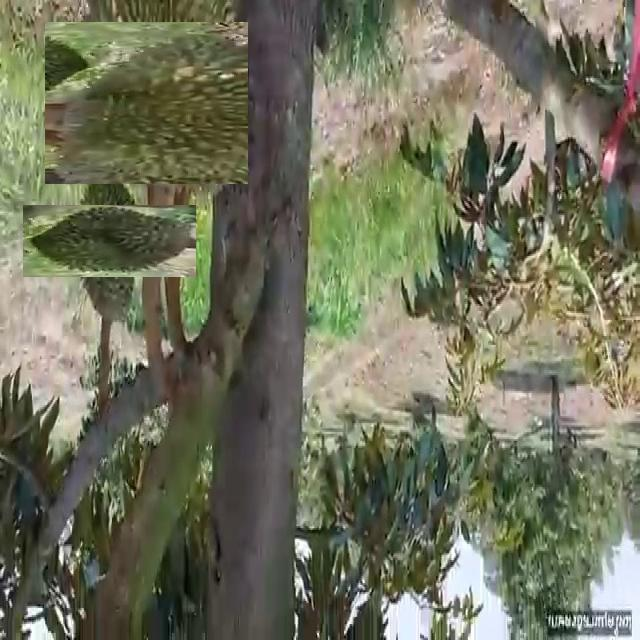durian: (55, 12, 238, 195), (48, 179, 170, 303)
